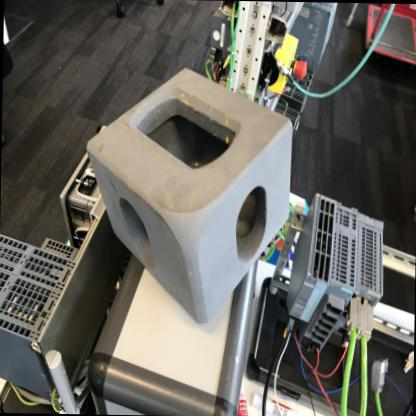CornerCasting: (82, 61, 296, 328)
